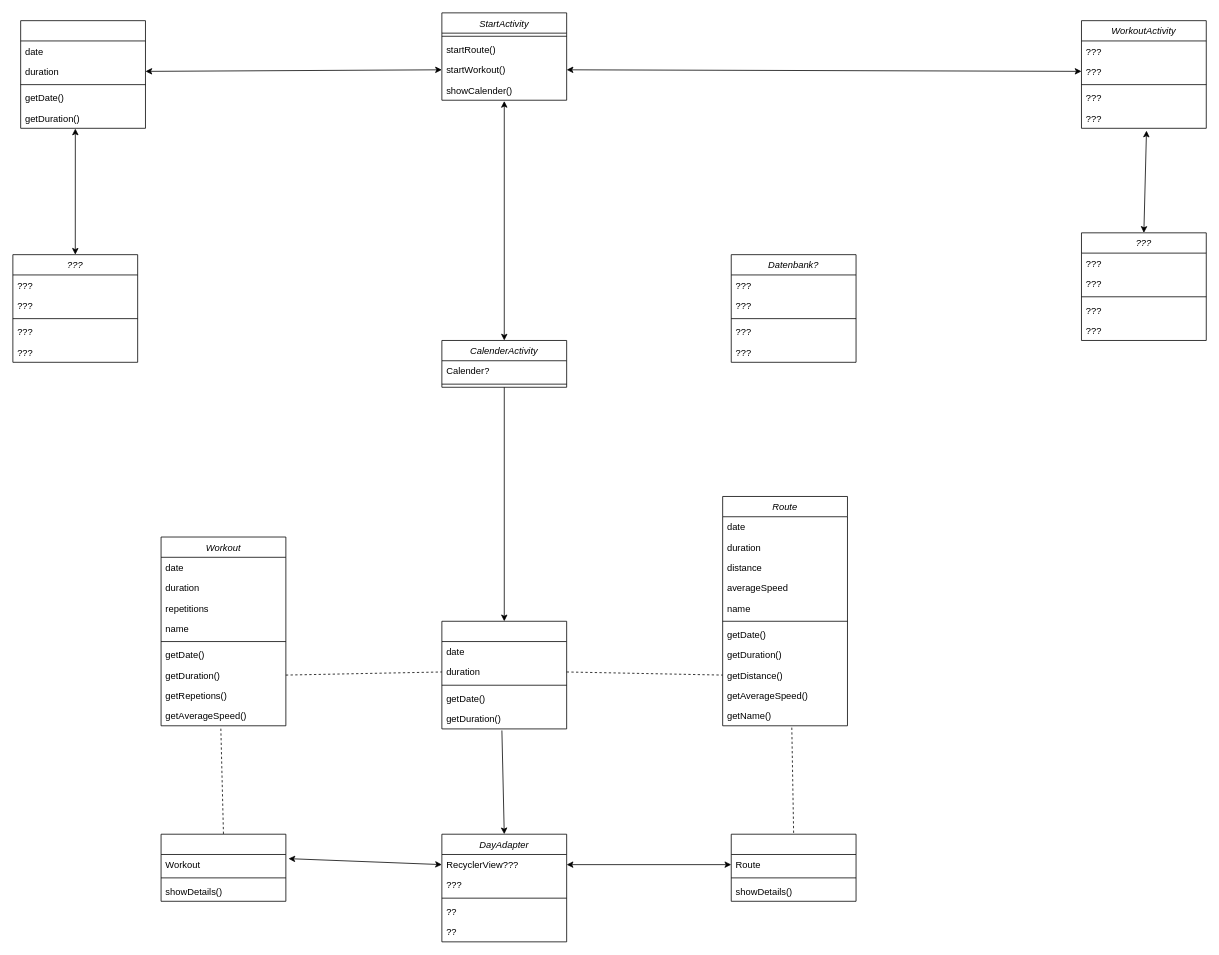
This 1219x955 diagram has some shape labels left out. Each missing label, with the box of its shape:
DayActivity: (441, 620, 567, 729)
Map Activity: (20, 20, 145, 128)
RouteDetailActivity: (730, 833, 856, 901)
WorkoutDetailActivity: (160, 833, 286, 901)
